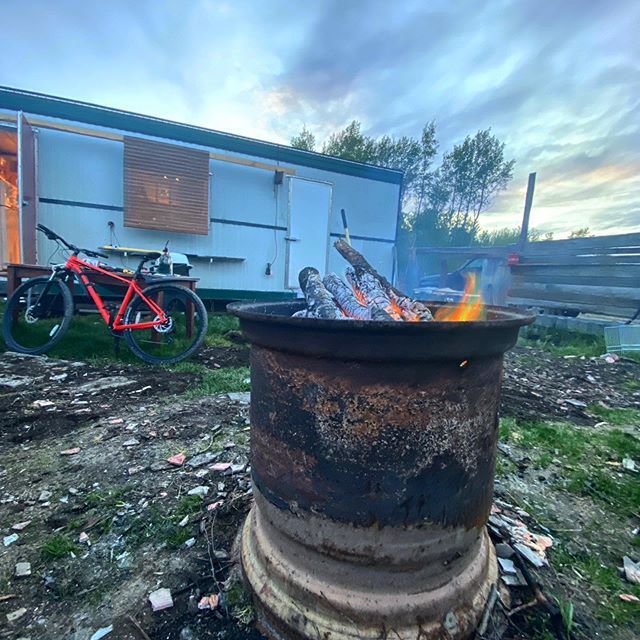bicicle: (1, 228, 213, 375)
building: (1, 89, 384, 326)
fireplace: (253, 224, 545, 390)
sky: (7, 6, 640, 192)
tree: (315, 113, 437, 226), (443, 125, 516, 233)
